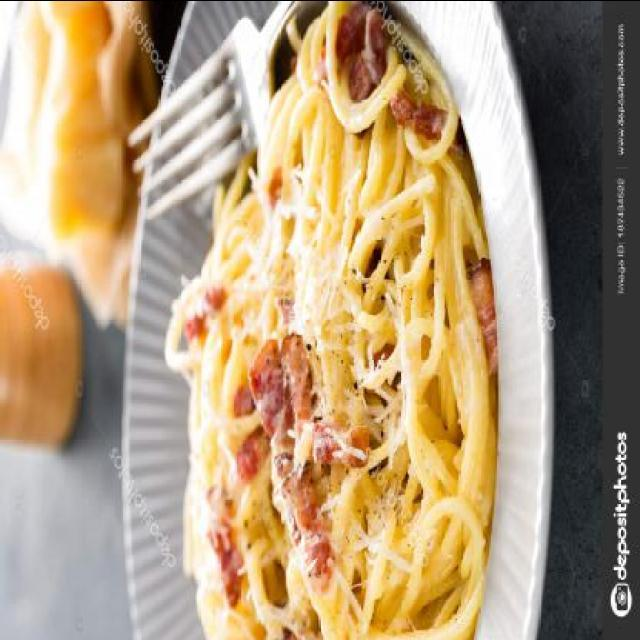Pasta with carbonara sauce: (164, 15, 498, 637)
